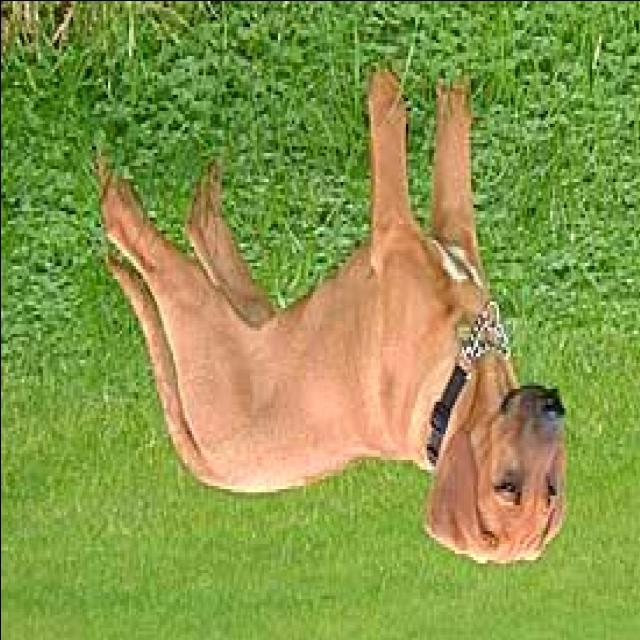rhodesian_ridgeback: (98, 58, 570, 572)
